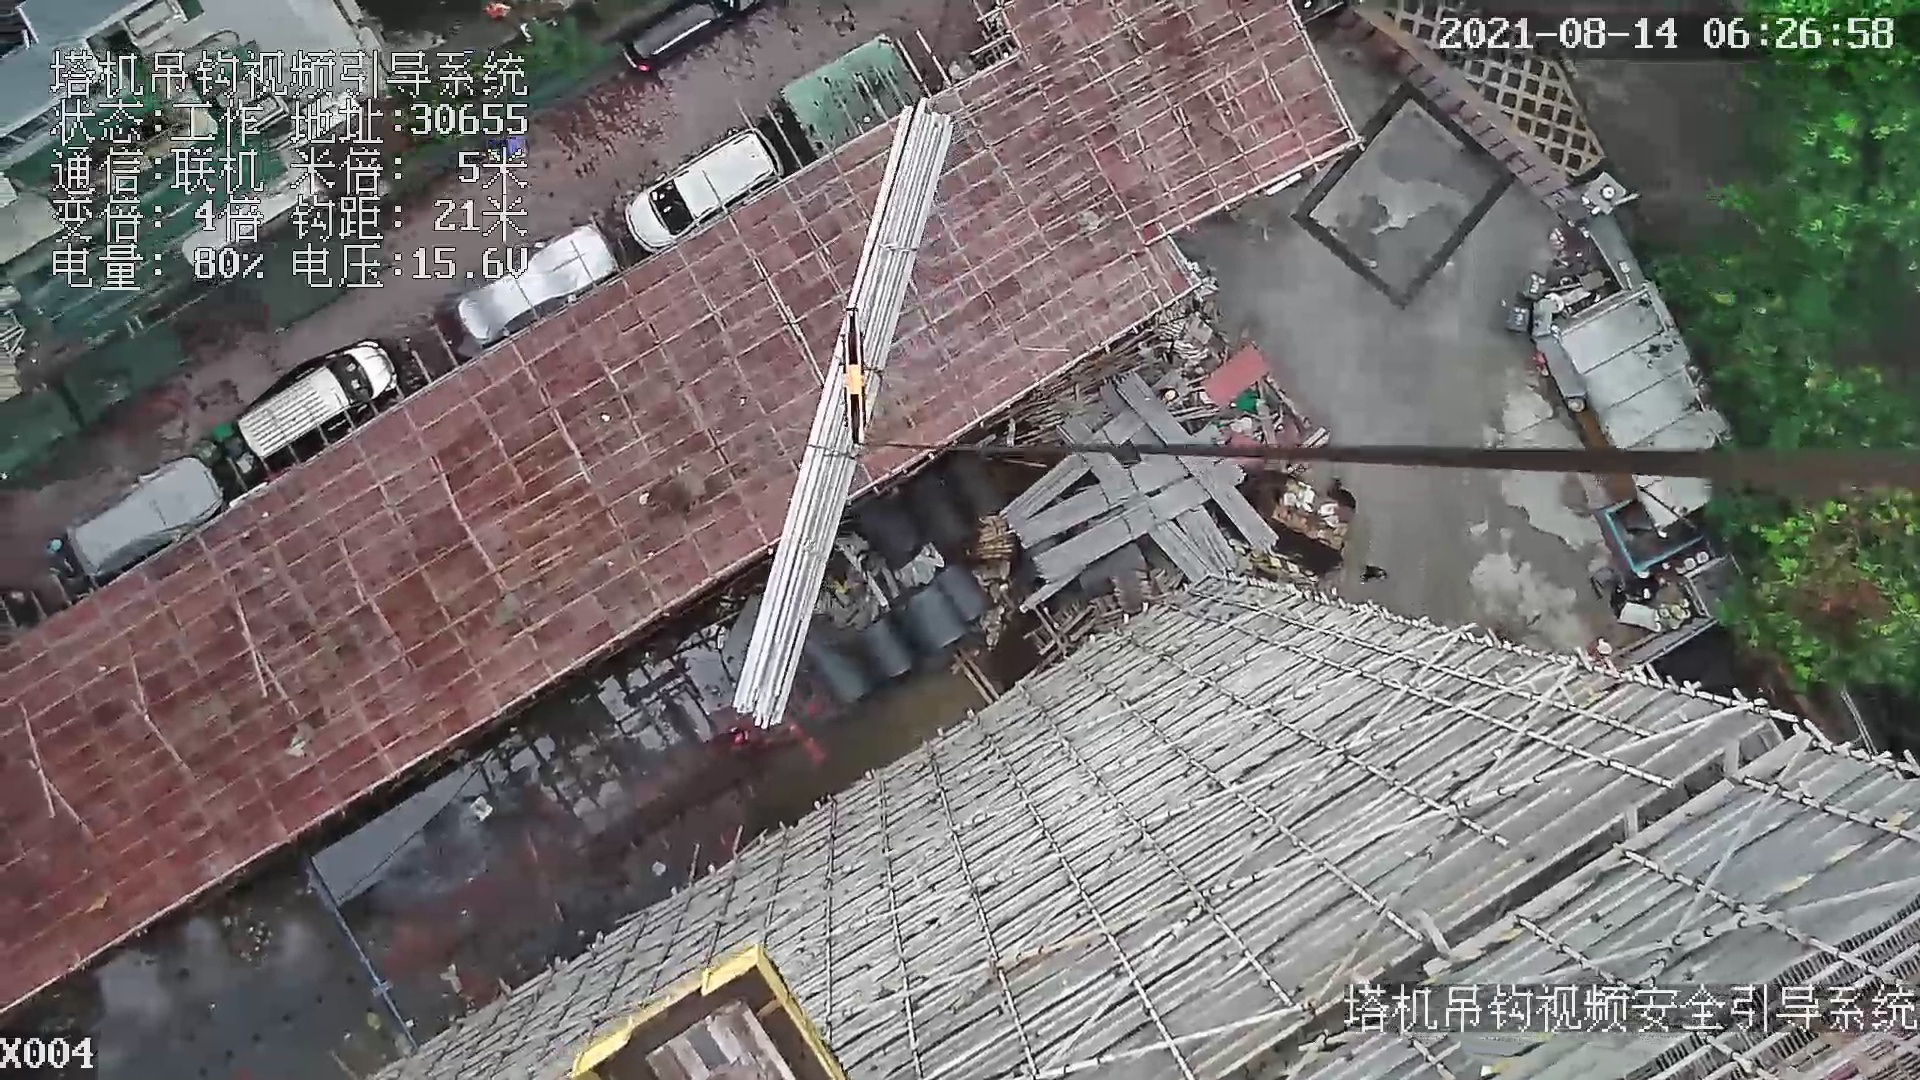hook: (829, 305, 876, 458)
person: (1363, 559, 1385, 587)
